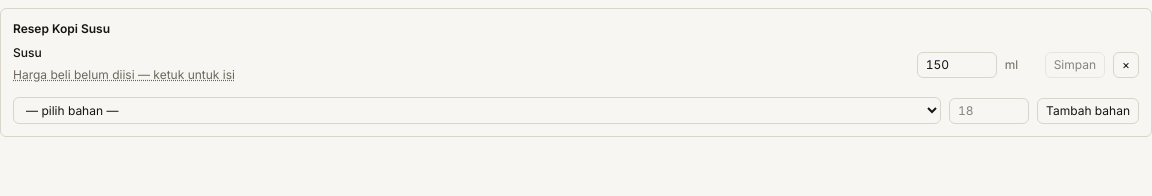
Test: takaran yang ditolak sebelum menyentuh server › "1.000" ditolak — dalam tulisan Indonesia itu seribu, bukan satu
The image size is (1152, 196).
Select "Biji Kopi" in the dropdown named "Bahan untuk Kopi Susu": (477, 110) [13, 97, 941, 124]
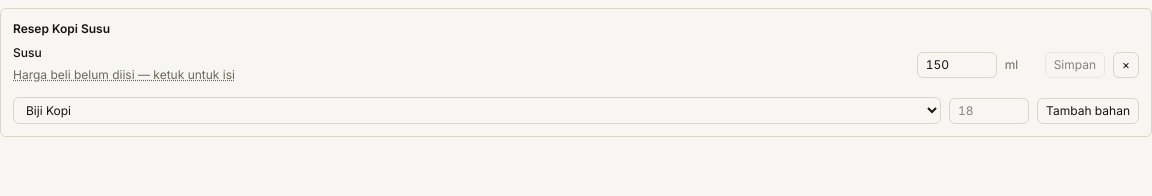
In the field named "Takaran untuk Kopi Susu": (989, 110) [949, 98, 1029, 124], type "1.000"
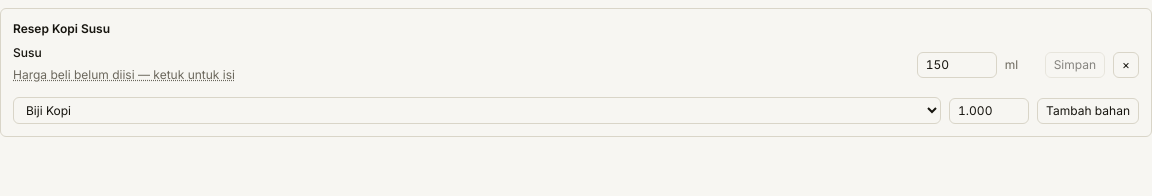
Click the button "Tambah bahan": (1088, 110) [1037, 98, 1139, 124]
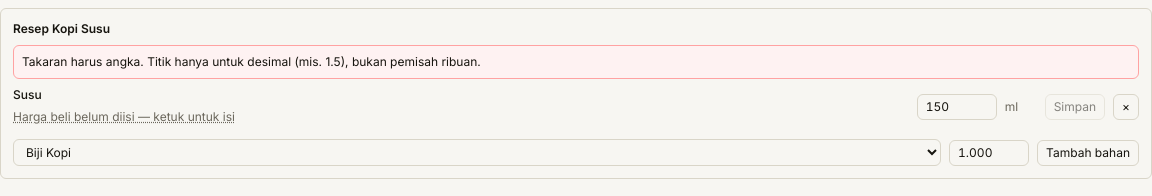
expect the message is shown: met, box [13, 45, 1139, 79]
